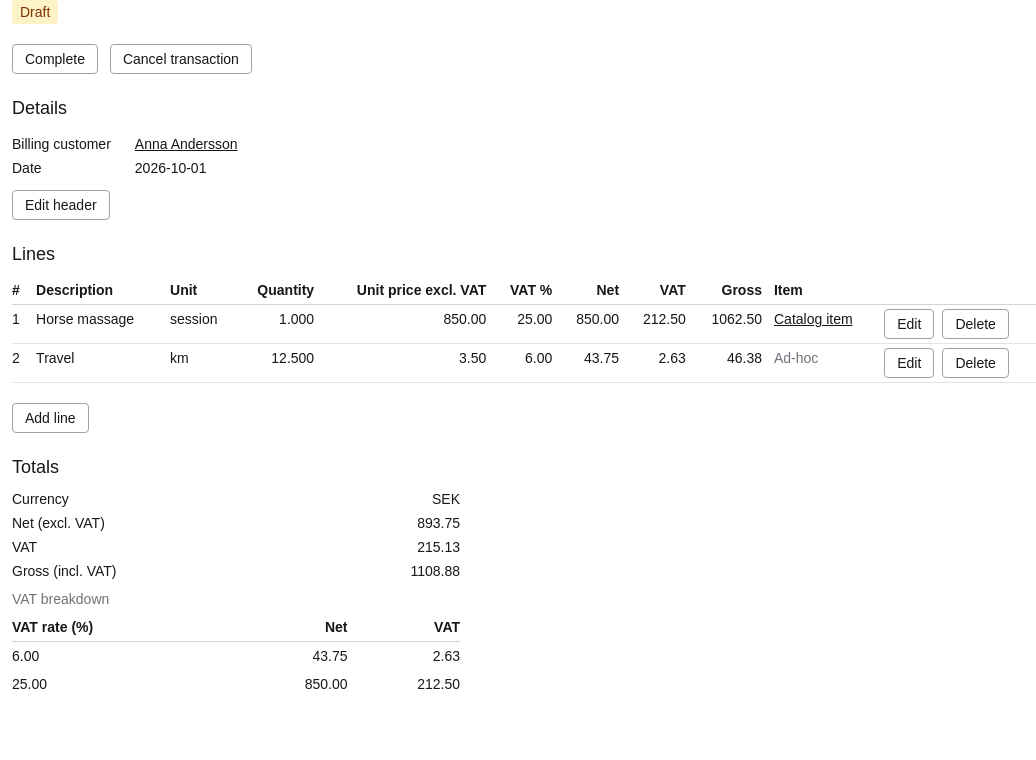
Scenario: adding a line from the catalog › a quantity that is not a decimal at all (abc) is stopped locally
The width and height of the screenshot is (1036, 760).
Click the button with test id "add-line".
click(50, 418)  # box top-left (12, 403), bottom-right (89, 433)
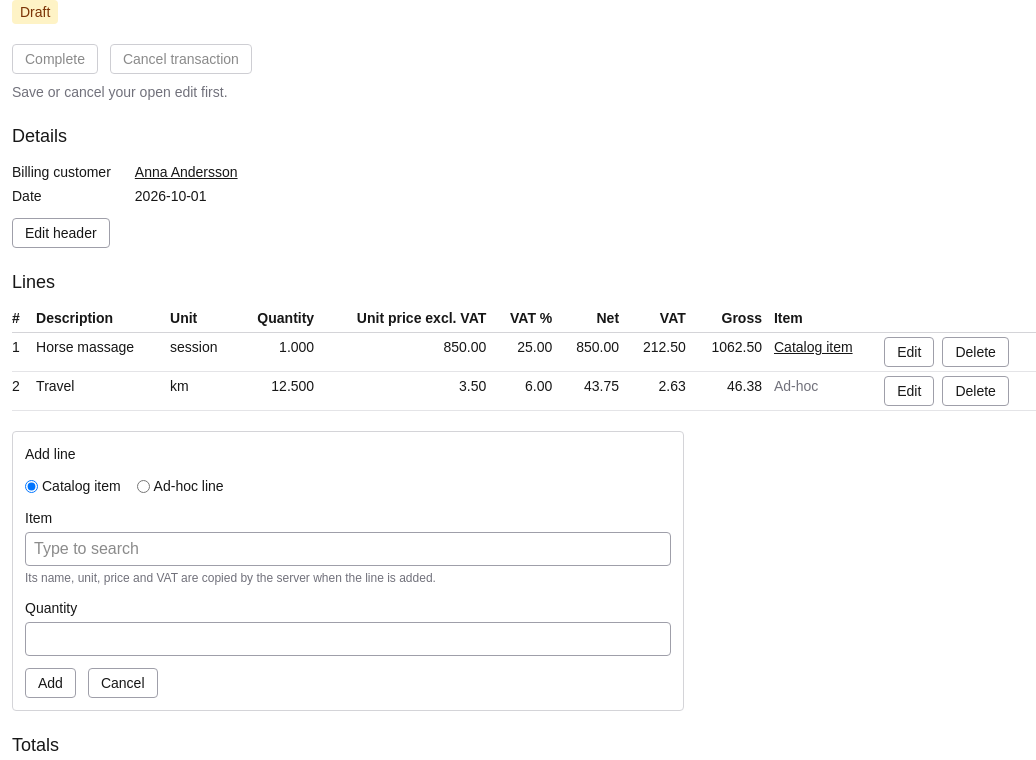
Click the dropdown.
click(348, 549)  # box top-left (25, 532), bottom-right (671, 566)
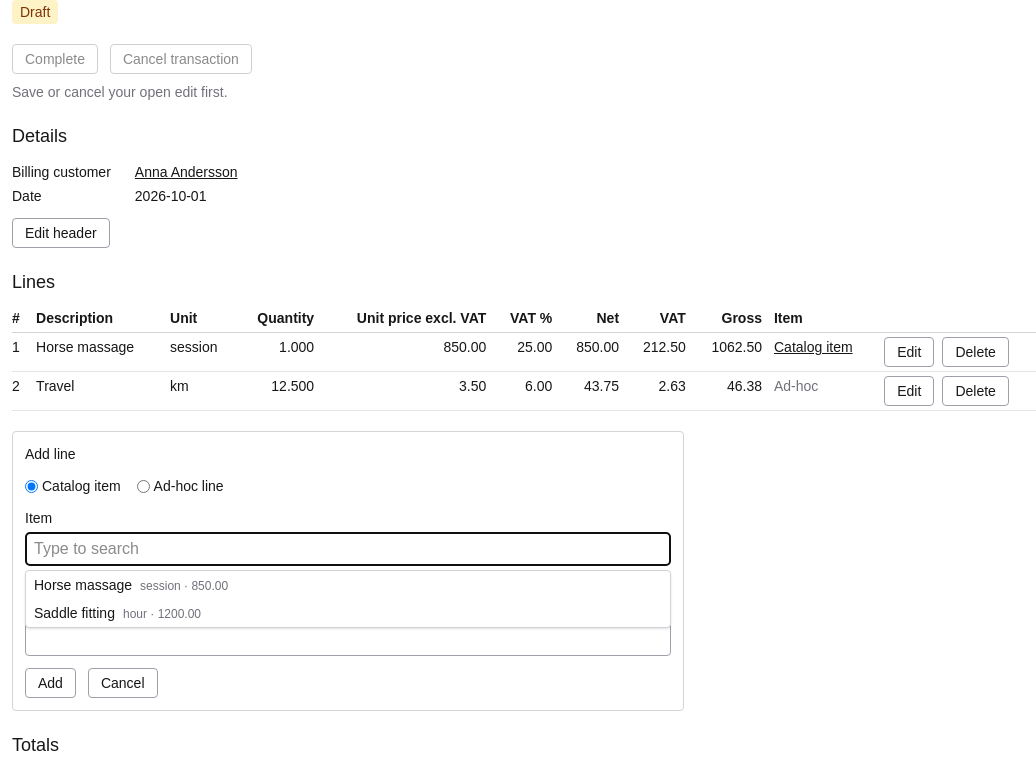
Click the option "Horse massage".
click(131, 585)  # box top-left (34, 577), bottom-right (228, 593)
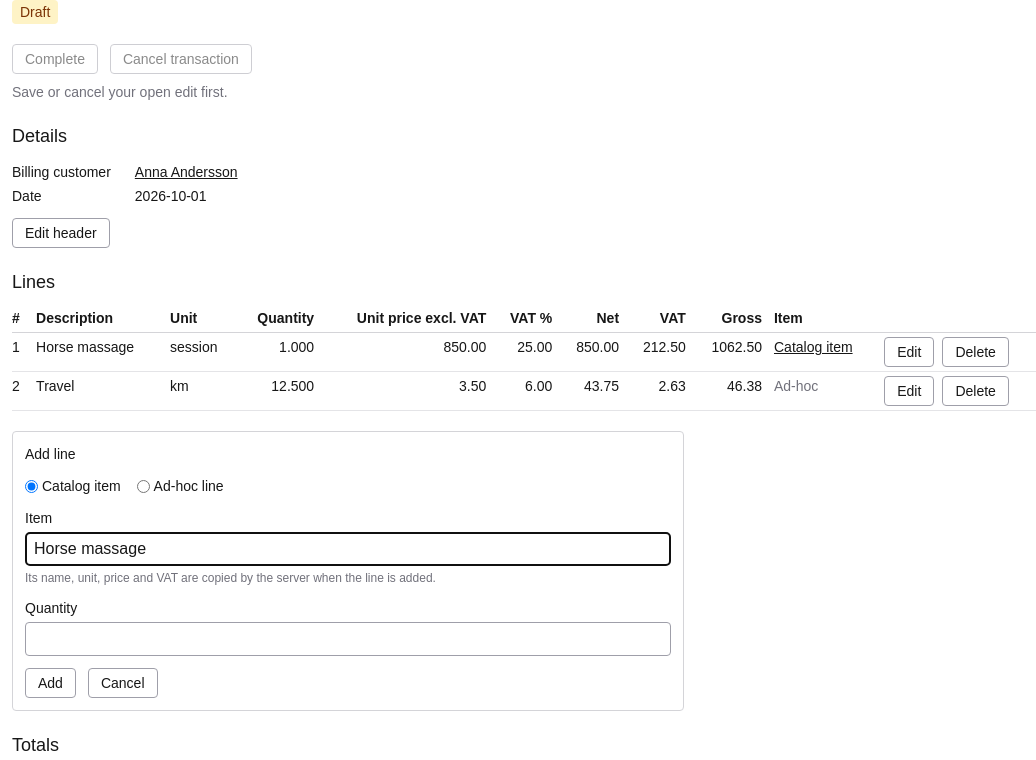
Type "abc" into the field labelled "Quantity".
click(348, 639); type("abc")  # box top-left (25, 622), bottom-right (671, 656)
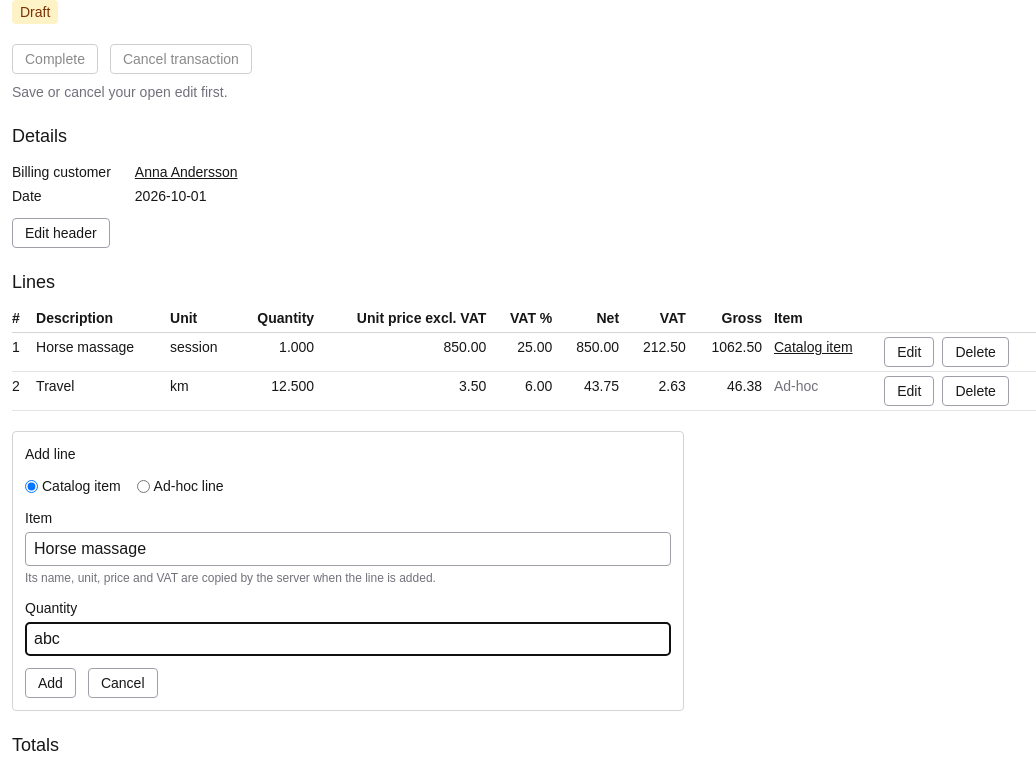
Click the button with test id "submit-line".
click(50, 683)  # box top-left (25, 668), bottom-right (76, 698)
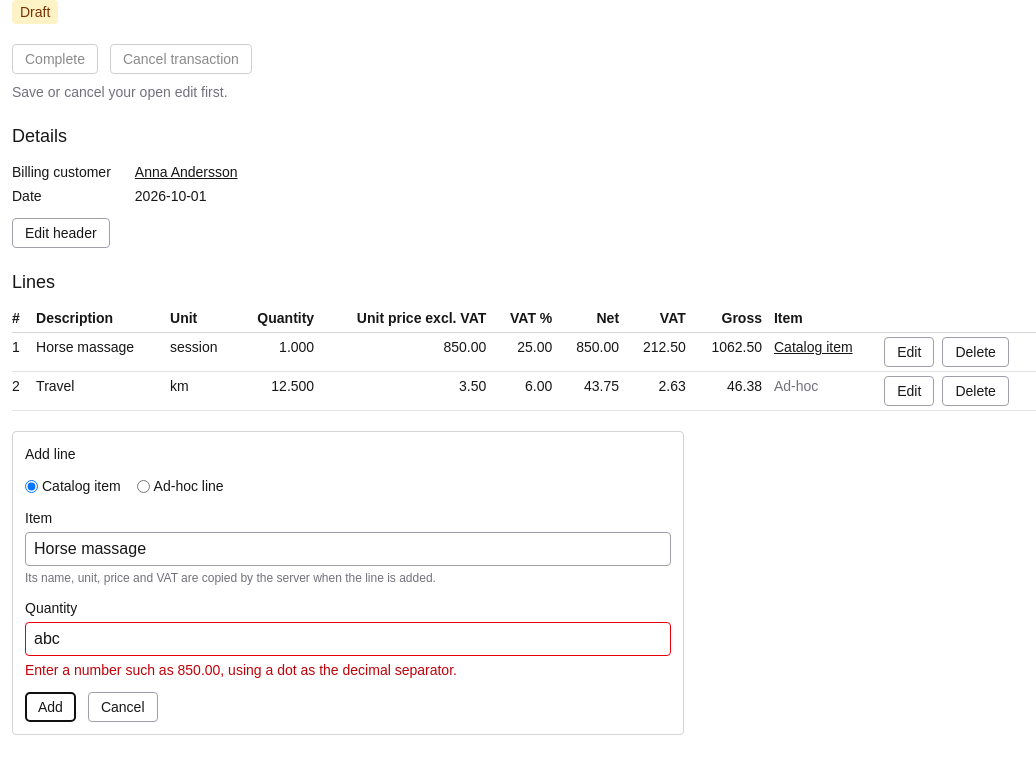
Expected: the text with test id "error-quantity" shows "Enter a number such as 850.00", top-left (25, 662), bottom-right (457, 678)
